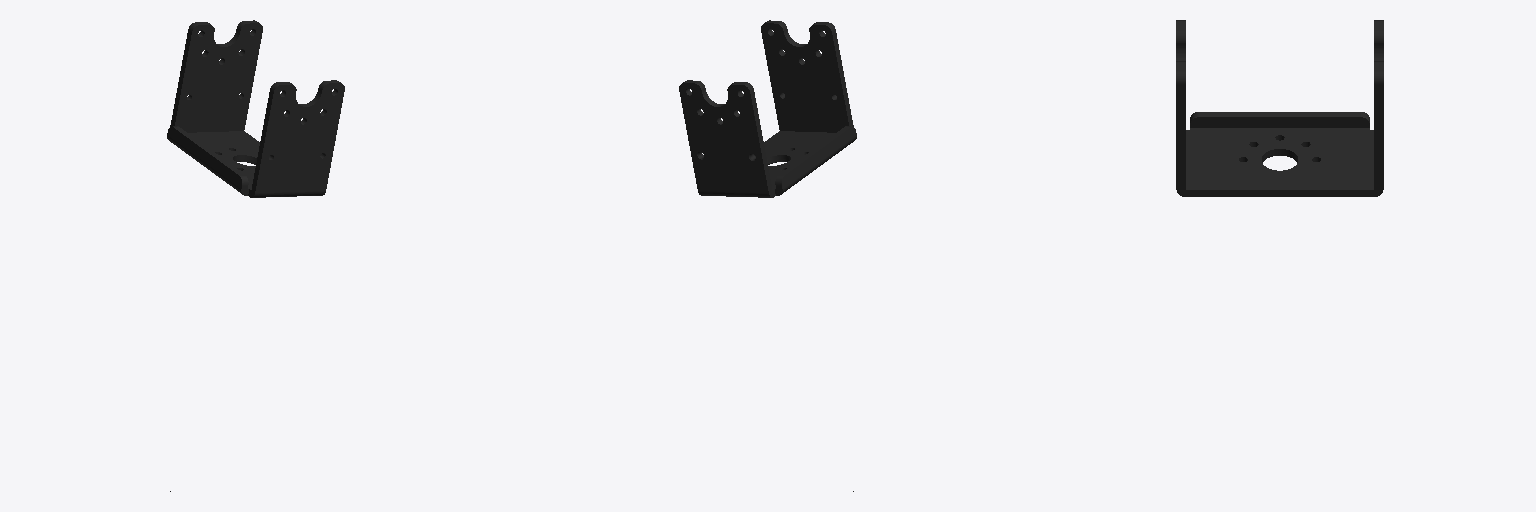
--- Facts derived from the render (not from the file) ---
3 views of the same robot in one strip: view 1: azimuth 30°, elevation 25°; view 2: azimuth 150°, elevation 25°; view 3: azimuth 270°, elevation 25° (orthographic).
Model Minibot with 30 links and 29 joints (20 revolute, 9 fixed), rooted at base_link, posed all joints at 0.
Links seen in each view (by area): view 1: L_HEAD_PAN; view 2: L_HEAD_PAN; view 3: L_HEAD_PAN.
Boxes of the visible links, bbox=[...] form: L_HEAD_PAN: bbox=[167, 20, 344, 197]; L_HEAD_PAN: bbox=[679, 20, 856, 197]; L_HEAD_PAN: bbox=[1176, 20, 1383, 196].
Bounding box of the posed robot: 40 × 45 × 122 m (x, y, z).
14 mesh visuals loaded from 12 distinct referenced files (6 binary STL, 2 Collada DAE); not drawn: 7 (reference not matched to a file when rendering).

URDF robot description (Minibot):
<?xml version="1.0" ?>
<!-- =================================================================================== -->
<!-- |    This document was autogenerated by xacro from minibot.urdf.xacro             | -->
<!-- |    EDITING THIS FILE BY HAND IS NOT RECOMMENDED                                 | -->
<!-- =================================================================================== -->
<robot name="Minibot" xmlns:xacro="http://www.ros.org/wiki/xacro">
  <!-- friction -->
  <link name="base_link"/>
  <joint name="base_link_to_body" type="fixed">
    <parent link="base_link"/>
    <child link="L_TORSO"/>
    <origin rpy="0 0.2 0" xyz="0 0 0.545"/>
  </joint>
  <link name="L_TORSO">
    <inertial>
      <origin rpy=" 1.5707963268 0 1.5707963268" xyz="-0.025019 0.000832 -0.054364"/>
      <mass value="1.423"/>
      <!--<inertia ixx="0.009125471"  ixy="0.000053223"  ixz="-0.000006850" iyy="0.005276569" iyz="0.000672794" izz="0.010426914" />-->
      <inertia ixx="0.05" ixy="0.0" ixz="0" iyy="0.05" iyz="0.0" izz="0.05"/>
      <!--<inertia ixx="0.001"  ixy="0.001"  ixz="0.001" iyy="0.001" iyz="0.001" izz="0.001" />-->
    </inertial>
    <visual>
      <origin rpy="1.5707963268 0 1.5707963268" xyz="0 0 0"/>
      <geometry>
        <mesh filename="package://minibot_description/meshes/torso_low.dae" scale="1 1 1"/>
      </geometry>
      <material name="Grey">
        <color rgba="0.20 0.20 0.20 1.0"/>
      </material>
    </visual>
    <!-- collision>
      <origin xyz="0 0 0" rpy="1.5707963268 0 1.5707963268"/>
      <geometry>
        <mesh filename="package://minibot_description/meshes/torso_coll.dae"  scale="1 1 1"/>
      </geometry>
    </collision> -->
  </link>
  <link name="L_HEAD_PAN">
    <inertial>
      <origin xyz="0.000002 -0.001022 0.008994"/>
      <mass value="0.012"/>
      <!--<inertia ixx="0.000001769"  ixy="0.0"  ixz="0.0" iyy="0.000004625" iyz="-0.000000082" izz="0.000005125" />-->
      <inertia ixx="0.0005" ixy="0.0" ixz="0" iyy="0.0005" iyz="0.0" izz="0.0005"/>
      <!--<inertia ixx="0.001"  ixy="0.001"  ixz="0.001" iyy="0.001" iyz="0.001" izz="0.001" />-->
    </inertial>
    <visual>
      <origin rpy="1.5707963268 0 0" xyz="0 0 0"/>
      <geometry>
        <mesh filename="package://minibot_description/meshes/head_lower_high.stl" scale="1 1 1"/>
      </geometry>
      <material name="Grey">
        <color rgba="0.20 0.20 0.20 1.0"/>
      </material>
    </visual>
    <!--<collision>
      <origin xyz="0 0 0" rpy="1.5707963268 0 0" />
      <geometry>
        <mesh filename="package://minibot_description/meshes/head_lower_coll.dae"  scale="1 1 1"/>
      </geometry>
    </collision>-->
  </link>
  <link name="L_HEAD_TILT">
    <inertial>
      <origin rpy="0 1.5707963268 0" xyz="-0.000223 -0.028433 0.0"/>
      <mass value="0.139"/>
      <inertia ixx="0.0005" ixy="0" ixz="0" iyy="0.0005" iyz="0" izz="0.0005"/>
      <!--<inertia ixx="0.001"  ixy="0.001"  ixz="0.001" iyy="0.001" iyz="0.001" izz="0.001" />-->
    </inertial>
    <visual>
      <origin rpy="3.14 1.5707963268 0" xyz="0 0 0"/>
      <geometry>
        <mesh filename="package://minibot_description/meshes/head_upper_high.stl" scale="1 1 1"/>
      </geometry>
      <material name="Grey">
        <color rgba="0.20 0.20 0.20 1.0"/>
      </material>
    </visual>
    <!--<collision>
      <origin xyz="0 0 0" rpy="3.14 1.5707963268 0" />
      <geometry>
        <mesh filename="package://minibot_description/meshes/head_upper_coll.dae"  scale="1 1 1"/>
      </geometry>
    </collision>-->
  </link>
  <link name="L_SHOULDER_PITCH_L">
    <inertial>
      <origin xyz="0.0 0.0 0.0087"/>
      <mass value="0.018"/>
      <inertia ixx="0.0005" ixy="0" ixz="0" iyy="0.0005" iyz="0" izz="0.0005"/>
      <!--<inertia ixx="0.001"  ixy="0.001"  ixz="0.001" iyy="0.001" iyz="0.001" izz="0.001" />-->
    </inertial>
    <visual>
      <origin rpy="0 1.5707963268 1.5707963268" xyz="0 0 0"/>
      <geometry>
        <!--box size="0.016 0.033 0.02165" /-->
        <mesh filename="package://minibot_description/meshes/shoulder_con_high.stl" scale="1 1 1"/>
      </geometry>
      <material name="Grey">
        <color rgba="0.20 0.20 0.20 1.0"/>
      </material>
    </visual>
    <!--<collision>
      <origin xyz="0 0 0" rpy="0 1.5707963268 1.5707963268"/>
      <geometry>
        <mesh filename="package://minibot_description/meshes/shoulder_con_coll.dae"  scale="1 1 1"/>
      </geometry>
    </collision>-->
  </link>
  <link name="L_SHOULDER_ROLL_L">
    <inertial>
      <origin xyz="-0.071053 0.000432 0.000046"/>
      <mass value="0.190"/>
      <!--<inertia ixx="0.0000409"  ixy="-0.000005512"  ixz="0.000003819" iyy="0.000667366" iyz="0.000000024" izz="0.000664711" />-->
      <inertia ixx="0.005" ixy="0" ixz="0" iyy="0.005" iyz="0" izz="0.005"/>
      <!--<inertia ixx="0.001"  ixy="0.001"  ixz="0.001" iyy="0.001" iyz="0.001" izz="0.001" />-->
    </inertial>
    <visual>
      <origin rpy="0 0 -1.5707963268" xyz="0 0 0"/>
      <geometry>
        <mesh filename="package://minibot_description/meshes/upper_arm_high.dae" scale="1 1 1"/>
      </geometry>
      <material name="Grey">
        <color rgba="0.20 0.20 0.20 1.0"/>
      </material>
    </visual>
    <!-- <collision>
      <origin xyz="0 0 0" rpy="0 0 -1.5707963268" />
      <geometry>
        <mesh filename="package://minibot_description/meshes/upper_arm_coll.dae"  scale="1 1 1"/>
      </geometry>
    </collision>-->
  </link>
  <link name="L_ELBOW_L">
    <inertial>
      <origin rpy="0 0 -3.141" xyz="-0.108 0.0 0.0"/>
      <mass value="0.097"/>
      <inertia ixx="0.0005" ixy="0" ixz="0" iyy="0.0005" iyz="0" izz="0.0005"/>
      <!--<inertia ixx="0.001"  ixy="0.001"  ixz="0.001" iyy="0.001" iyz="0.001" izz="0.001" />-->
    </inertial>
    <visual>
      <origin rpy="0 1.5707963268 -1.5707963268" xyz="0 0 0"/>
      <geometry>
        <mesh filename="package://minibot_description/meshes/lower_arm_high.stl" scale="1 1 1"/>
      </geometry>
      <material name="Grey">
        <color rgba="0.20 0.20 0.20 1.0"/>
      </material>
    </visual>
    <!--<collision>
      <origin xyz="0 0 0" rpy="0 1.5707963268 -1.5707963268" />
      <geometry>
        <mesh filename="package://minibot_description/meshes/lower_arm_coll.dae"  scale="1 1 1"/>
      </geometry>
    </collision>-->
  </link>
  <link name="L_SHOULDER_PITCH_R">
    <inertial>
      <origin xyz="0.0 0.0 0.0087"/>
      <mass value="0.018"/>
      <inertia ixx="0.0005" ixy="0" ixz="0" iyy="0.0005" iyz="0" izz="0.0005"/>
      <!--<inertia ixx="0.001"  ixy="0.001"  ixz="0.001" iyy="0.001" iyz="0.001" izz="0.001" />-->
    </inertial>
    <visual>
      <origin rpy="0 1.5707963268 1.5707963268" xyz="0 0 0"/>
      <geometry>
        <!--box size="0.016 0.033 0.02165" /-->
        <mesh filename="package://minibot_description/meshes/shoulder_con_high.stl" scale="1 1 1"/>
      </geometry>
      <material name="Grey">
        <color rgba="0.20 0.20 0.20 1.0"/>
      </material>
    </visual>
    <!--<collision>
      <origin xyz="0 0 0" rpy="0 1.5707963268 1.5707963268"/>
      <geometry>
        <mesh filename="package://minibot_description/meshes/shoulder_con_coll.dae"  scale="1 1 1"/>
      </geometry>
    </collision>-->
  </link>
  <link name="L_SHOULDER_ROLL_R">
    <inertial>
      <origin xyz="-0.071053 0.000432 0.000046"/>
      <mass value="0.190"/>
      <!--<inertia ixx="0.0000409"  ixy="-0.000005512"  ixz="0.000003819" iyy="0.000667366" iyz="0.000000024" izz="0.000664711" />-->
      <inertia ixx="0.0005" ixy="0" ixz="0" iyy="0.0005" iyz="0" izz="0.0005"/>
      <!--<inertia ixx="0.001"  ixy="0.001"  ixz="0.001" iyy="0.001" iyz="0.001" izz="0.001" />-->
    </inertial>
    <visual>
      <origin rpy="0 0 -1.5707963268" xyz="0 0 0"/>
      <geometry>
        <!--box size="0.06 0.032 0.035"/-->
        <mesh filename="package://minibot_description/meshes/upper_arm_high.dae" scale="1 1 1"/>
      </geometry>
      <material name="Grey">
        <color rgba="0.20 0.20 0.20 1.0"/>
      </material>
    </visual>
    <!--<collision>
      <origin xyz="0 0 0" rpy="0 0 -1.5707963268" />
      <geometry>
        <mesh filename="package://minibot_description/meshes/upper_arm_coll.dae"  scale="1 1 1"/>
      </geometry>
    </collision>-->
  </link>
  <link name="L_ELBOW_R">
    <inertial>
      <!--<origin xyz="0.108 0.0 0.0" rpy="0 1.5707963268 1.5707963268"/>-->
      <origin xyz="0.108 0.0 0.0"/>
      <mass value="0.097"/>
      <inertia ixx="0.0005" ixy="0" ixz="0" iyy="0.0005" iyz="0" izz="0.0005"/>
      <!--<inertia ixx="0.001"  ixy="0.001"  ixz="0.001" iyy="0.001" iyz="0.001" izz="0.001" />-->
    </inertial>
    <visual>
      <origin rpy="0 1.5707963268 1.5707963268" xyz="0 0 0"/>
      <geometry>
        <mesh filename="package://minibot_description/meshes/lower_arm_high.stl" scale="1 1 1"/>
      </geometry>
      <material name="Grey">
        <color rgba="0.20 0.20 0.20 1.0"/>
      </material>
    </visual>
    <!--<collision>
      <origin xyz="0 0 0" rpy="0 1.5707963268 1.5707963268" />
      <geometry>
        <mesh filename="package://minibot_description/meshes/lower_arm_coll.dae"  scale="1 1 1"/>
      </geometry>
    </collision>-->
  </link>
  <link name="L_HIP_YAW_L">
    <inertial>
      <origin rpy="1.5707963268 0 1.5707963268" xyz="0.0 0.0 0.011"/>
      <mass value="0.022"/>
      <inertia ixx="0.0005" ixy="0" ixz="0" iyy="0.0005" iyz="0" izz="0.0005"/>
      <!--<inertia ixx="0.001"  ixy="0.001"  ixz="0.001" iyy="0.001" iyz="0.001" izz="0.001" />-->
    </inertial>
    <visual>
      <origin rpy="1.5707963268 0 0" xyz="0 0 0"/>
      <geometry>
        <!--box size="0.045 0.08175 0.028652" /-->
        <mesh filename="package://minibot_description/meshes/yaw_con_high.stl" scale="1 1 1"/>
      </geometry>
      <material name="Grey">
        <color rgba="0.20 0.20 0.20 1.0"/>
      </material>
    </visual>
    <!--<collision>
      <origin xyz="0 0 0" rpy="1.5707963268 0 0" />
      <geometry>
        <mesh filename="package://minibot_description/meshes/yaw_con_coll.dae"  scale="1 1 1"/>
      </geometry>
    </collision>-->
  </link>
  <link name="L_HIP_ROLL_L">
    <inertial>
      <origin xyz="-0.00057 -0.013721 0.02013 "/>
      <mass value="0.325"/>
      <!--<inertia ixx="0.000315619"  ixy="0.000001631"  ixz="0.000002302" iyy="0.000280296" iyz="-0.000009041" izz="0.0001431" />-->
      <inertia ixx="0.005" ixy="0" ixz="0" iyy="0.005" iyz="0" izz="0.005"/>
      <!--<inertia ixx="0.001"  ixy="0.001"  ixz="0.001" iyy="0.001" iyz="0.001" izz="0.001" />-->
    </inertial>
    <visual>
      <origin rpy="0 3.14 0" xyz="0 0 -0.025"/>
      <geometry>
        <!--box size="0.001 0.001 0.001"/-->
        <mesh filename="package://minibot_description/meshes/hip_roll_low.dae" scale="1 1 1"/>
      </geometry>
      <material name="Grey">
        <color rgba="0.20 0.20 0.20 1.0"/>
      </material>
    </visual>
    <!--<collision>
      <origin xyz="0 0 -0.025" rpy="0 3.14 0" />
      <geometry>
        <mesh filename="package://minibot_description/meshes/hip_roll_coll.dae"  scale="1 1 1"/>
      </geometry>
    </collision>-->
  </link>
  <link name="L_HIP_PITCH_L">
    <inertial>
      <origin rpy="0 1.5707963268 1.5707963268" xyz="-0.12799 -0.000699 0.000454"/>
      <mass value="0.215"/>
      <!--<inertia ixx="0.000295153"  ixy="-0.000003736"  ixz="-0.000000065" iyy="0.000085463" iyz="-0.000003231" izz="0.000344449" />-->
      <inertia ixx="0.005" ixy="0" ixz="0" iyy="0.005" iyz="0" izz="0.005"/>
      <!--<inertia ixx="0.001"  ixy="0.001"  ixz="0.001" iyy="0.001" iyz="0.001" izz="0.001" />-->
    </inertial>
    <visual>
      <origin rpy="1.5707963268 1.5707963268 0" xyz="0 0 0"/>
      <geometry>
        <!--box size="0.093 0.035 0.045"-->
        <mesh filename="package://minibot_description/meshes/upper_leg_high.stl" scale="1 1 1"/>
      </geometry>
      <material name="Grey">
        <color rgba="0.20 0.20 0.20 1.0"/>
      </material>
    </visual>
    <!--<collision>
      <origin xyz="0 0 0" rpy="1.5707963268 1.5707963268 0" />
      <geometry>
        <mesh filename="package://minibot_description/meshes/upper_leg_coll.dae"  scale="1 1 1"/>
      </geometry>
    </collision>-->
  </link>
  <link name="L_KNEE_L">
    <inertial>
      <origin rpy="0 1.5707963268 1.5707963268" xyz="-0.072079 -0.00295 0.0"/>
      <mass value="0.055"/>
      <!--<inertia ixx="0.000094062"  ixy="0.0"  ixz="0.0" iyy="0.000043139" iyz="-0.000002344" izz="0.000125827" />-->
      <inertia ixx="0.0005" ixy="0" ixz="0" iyy="0.0005" iyz="0" izz="0.0005"/>
      <!--<inertia ixx="0.001"  ixy="0.001"  ixz="0.001" iyy="0.001" iyz="0.001" izz="0.001" />-->
    </inertial>
    <visual>
      <origin rpy="1.5707963268 1.5707963268 0" xyz="0 0 0"/>
      <geometry>
        <!--box size="0.093 0.035 0.045"/-->
        <mesh filename="package://minibot_description/meshes/lower_leg_high.stl" scale="1 1 1"/>
      </geometry>
      <material name="Grey">
        <color rgba="0.20 0.20 0.20 1.0"/>
      </material>
    </visual>
    <!--<collision>
      <origin xyz="0 0 0" rpy="1.5707963268 1.5707963268 0" />
      <geometry>
        <mesh filename="package://minibot_description/meshes/lower_leg_coll.dae"  scale="1 1 1"/>
      </geometry>
    </collision>-->
  </link>
  <link name="L_ANKLE_PITCH_L">
    <inertial>
      <origin rpy="1.5707963268 1.5707963268 0" xyz="0.014045 -0.020134 -0.000053"/>
      <mass value="0.325"/>
      <!--<inertia ixx="0.00041644"  ixy="-0.000001658"  ixz="0.000002316" iyy="0.0002803" iyz="0.0000095" izz="0.000144" />-->
      <inertia ixx="0.005" ixy="0" ixz="0" iyy="0.005" iyz="0" izz="0.005"/>
      <!--<inertia ixx="0.001"  ixy="0.001"  ixz="0.001" iyy="0.001" iyz="0.001" izz="0.001" />-->
    </inertial>
    <visual>
      <origin rpy="3.14 -1.5707963268 1.5707963268" xyz="0 0 0"/>
      <geometry>
        <!--box size="0.028652 0.08175 0.045"/-->
        <mesh filename="package://minibot_description/meshes/ankle_roll_low.dae" scale="1 1 1"/>
      </geometry>
      <material name="Grey">
        <color rgba="0.20 0.20 0.20 1.0"/>
      </material>
    </visual>
    <!--<collision>
      <origin xyz="0 0 0" rpy="3.14 -1.5707963268 1.5707963268" />
      <geometry>
        <mesh filename="package://minibot_description/meshes/ankle_roll_coll.dae"  scale="1 1 1"/>
      </geometry>
    </collision>-->
  </link>
  <link name="L_ANKLE_ROLL_L">
    <inertial>
      <origin rpy="0 0 1.5707963268" xyz="-0.0364 0.0003 0.002423"/>
      <mass value="0.086"/>
      <inertia ixx="0.0005" ixy="0" ixz="0" iyy="0.0005" iyz="0" izz="0.0005"/>
      <!--<inertia ixx="0.001"  ixy="0.001"  ixz="0.001" iyy="0.001" iyz="0.001" izz="0.001" />-->
    </inertial>
    <visual>
      <origin rpy="0 0 -1.5707963268" xyz="0 0 -0.025"/>
      <geometry>
        <!--box size="0.008 0.066 0.104"/-->
        <mesh filename="package://minibot_description/meshes/foot_high.stl" scale="1 1 1"/>
      </geometry>
      <material name="Grey">
        <color rgba="0.20 0.20 0.20 1.0"/>
      </material>
    </visual>
    <collision>
      <origin rpy="0 0 -1.5707963268" xyz="0 0 -0.025"/>
      <geometry>
        <mesh filename="package://minibot_description/meshes/foot_coll.dae" scale="1 1 1"/>
      </geometry>
    </collision>
  </link>
  <link name="L_HIP_YAW_R">
    <inertial>
      <origin rpy="1.5707963268 0 1.5707963268" xyz="0.0 0.0 0.011"/>
      <mass value="0.022"/>
      <inertia ixx="0.0005" ixy="0" ixz="0" iyy="0.0005" iyz="0" izz="0.0005"/>
      <!--<inertia ixx="0.001"  ixy="0.001"  ixz="0.001" iyy="0.001" iyz="0.001" izz="0.001" />-->
    </inertial>
    <visual>
      <origin rpy="1.5707963268 0 0" xyz="0 0 0"/>
      <geometry>
        <!--box size="0.045 0.08175 0.028652" /-->
        <mesh filename="package://minibot_description/meshes/yaw_con_high.stl" scale="1 1 1"/>
      </geometry>
      <material name="Grey">
        <color rgba="0.20 0.20 0.20 1.0"/>
      </material>
    </visual>
    <!--<collision>
      <origin xyz="0 0 0" rpy="1.5707963268 0 0" />
      <geometry>
        <mesh filename="package://minibot_description/meshes/yaw_con_coll.dae"  scale="1 1 1"/>
      </geometry>
    </collision>-->
  </link>
  <link name="L_HIP_ROLL_R">
    <inertial>
      <origin xyz="-0.00057 -0.013721 0.02013 "/>
      <mass value="0.325"/>
      <!--<inertia ixx="0.000315619"  ixy="0.000001631"  ixz="0.000002302" iyy="0.000280296" iyz="-0.000009041" izz="0.0001431" />-->
      <inertia ixx="0.005" ixy="0" ixz="0" iyy="0.005" iyz="0" izz="0.005"/>
      <!--<inertia ixx="0.001"  ixy="0.001"  ixz="0.001" iyy="0.001" iyz="0.001" izz="0.001" />-->
    </inertial>
    <visual>
      <origin rpy="0 3.14 0" xyz="0 0 -0.025"/>
      <geometry>
        <!--box size="0.001 0.001 0.001"/-->
        <mesh filename="package://minibot_description/meshes/hip_roll_low.dae" scale="1 1 1"/>
      </geometry>
      <material name="Grey">
        <color rgba="0.20 0.20 0.20 1.0"/>
      </material>
    </visual>
    <!--<collision>
      <origin xyz="0 0 -0.025" rpy="0 3.14 0" />
      <geometry>
        <mesh filename="package://minibot_description/meshes/hip_roll_coll.dae"  scale="1 1 1"/>
      </geometry>
    </collision>-->
  </link>
  <link name="L_HIP_PITCH_R">
    <inertial>
      <origin rpy="0 1.5707963268 1.5707963268" xyz="0.12799 -0.000699 0.000454"/>
      <mass value="0.215"/>
      <!--<inertia ixx="0.000295153"  ixy="-0.000003736"  ixz="-0.000000065" iyy="0.000085463" iyz="-0.000003231" izz="0.000344449" />-->
      <inertia ixx="0.005" ixy="0" ixz="0" iyy="0.005" iyz="0" izz="0.005"/>
      <!--<inertia ixx="0.001"  ixy="0.001"  ixz="0.001" iyy="0.001" iyz="0.001" izz="0.001" />-->
    </inertial>
    <visual>
      <origin rpy="1.5707963268 -1.5707963268 0" xyz="0 0 0"/>
      <geometry>
        <!--box size="0.093 0.035 0.045"/-->
        <mesh filename="package://minibot_description/meshes/upper_leg_high.stl" scale="1 1 1"/>
      </geometry>
      <material name="Grey">
        <color rgba="0.20 0.20 0.20 1.0"/>
      </material>
    </visual>
    <!--<collision>
      <origin xyz="0 0 0" rpy="1.5707963268 -1.5707963268 0" />
      <geometry>
        <mesh filename="package://minibot_description/meshes/upper_leg_coll.dae"  scale="1 1 1"/>
      </geometry>
    </collision>-->
  </link>
  <link name="L_KNEE_R">
    <inertial>
      <origin rpy="0 1.5707963268 1.5707963268" xyz="0.072079 -0.00295 0.0"/>
      <mass value="0.055"/>
      <!--<inertia ixx="0.000094062"  ixy="0.0"  ixz="0.0" iyy="0.000043139" iyz="-0.000002344" izz="0.000125827" />-->
      <inertia ixx="0.0005" ixy="0" ixz="0" iyy="0.0005" iyz="0" izz="0.0005"/>
      <!--<inertia ixx="0.001"  ixy="0.001"  ixz="0.001" iyy="0.001" iyz="0.001" izz="0.001" />-->
    </inertial>
    <visual>
      <origin rpy="1.5707963268 -1.5707963268 0" xyz="0 0 0"/>
      <geometry>
        <!--box size="0.093 0.035 0.045"/-->
        <mesh filename="package://minibot_description/meshes/lower_leg_high.stl" scale="1 1 1"/>
      </geometry>
      <material name="Grey">
        <color rgba="0.20 0.20 0.20 1.0"/>
      </material>
    </visual>
    <!--<collision>
      <origin xyz="0 0 0" rpy="1.5707963268 -1.5707963268 0" />
      <geometry>
        <mesh filename="package://minibot_description/meshes/lower_leg_coll.dae"  scale="1 1 1"/>
      </geometry>
    </collision>-->
  </link>
  <link name="L_ANKLE_PITCH_R">
    <inertial>
      <origin rpy="1.5707963268 1.5707963268 0" xyz="-0.014045 -0.020134 -0.000053"/>
      <mass value="0.325"/>
      <!--<inertia ixx="0.00041644"  ixy="-0.000001658"  ixz="0.000002316" iyy="0.0002803" iyz="0.0000095" izz="0.000144" />-->
      <inertia ixx="0.005" ixy="0" ixz="0" iyy="0.005" iyz="0" izz="0.005"/>
      <!--<inertia ixx="0.001"  ixy="0.001"  ixz="0.001" iyy="0.001" iyz="0.001" izz="0.001" />-->
    </inertial>
    <visual>
      <origin rpy="0 1.5707963268 1.5707963268" xyz="0 0 0"/>
      <geometry>
        <!--box size="0.028652 0.08175 0.045"/-->
        <mesh filename="package://minibot_description/meshes/ankle_roll_low.dae" scale="1 1 1"/>
      </geometry>
      <material name="Grey">
        <color rgba="0.20 0.20 0.20 1.0"/>
      </material>
    </visual>
    <!--<collision>
      <origin xyz="0 0 0" rpy="0 1.5707963268 1.5707963268" />
      <geometry>
        <mesh filename="package://minibot_description/meshes/ankle_roll_coll.dae"  scale="1 1 1"/>
      </geometry>
    </collision>-->
  </link>
  <link name="L_ANKLE_ROLL_R">
    <inertial>
      <origin rpy="0 0 1.5707963268" xyz="0.0364 0.0003 0.002423"/>
      <mass value="0.086"/>
      <inertia ixx="0.0005" ixy="0" ixz="0" iyy="0.0005" iyz="0" izz="0.0005"/>
      <!--<inertia ixx="0.001"  ixy="0.001"  ixz="0.001" iyy="0.001" iyz="0.001" izz="0.001" />-->
    </inertial>
    <visual>
      <origin rpy="0 0 1.5707963268" xyz="0 0 -0.025"/>
      <geometry>
        <!--box size="0.008 0.066 0.104"/-->
        <mesh filename="package://minibot_description/meshes/foot_high.stl" scale="1 1 1"/>
      </geometry>
      <material name="Grey">
        <color rgba="0.20 0.20 0.20 1.0"/>
      </material>
    </visual>
    <collision>
      <origin rpy="0 0 1.5707963268" xyz="0 0 -0.025"/>
      <geometry>
        <mesh filename="package://minibot_description/meshes/foot_coll.dae" scale="1 1 1"/>
      </geometry>
    </collision>
  </link>
  <link name="L_CAMERA"/>
  <link name="L_Hand_L"/>
  <link name="L_Hand_R"/>
  <link name="L_FOOT_BOTTOM_L"/>
  <link name="L_FOOT_BOTTOM_R"/>
  <link name="L_FOOT_FRONT_L"/>
  <link name="L_FOOT_FRONT_R"/>
  <link name="L_IMU">
  </link>
  <joint name="j_imu" type="fixed">
    <parent link="L_TORSO"/>
    <child link="L_IMU"/>
    <origin rpy="0 0 0" xyz="-0.03 0 -0.05"/>
    <axis xyz="0 0 1"/>
  </joint>
  <joint name="j_camboard" type="fixed">
    <parent link="L_HEAD_TILT"/>
    <child link="L_CAMERA"/>
    <origin rpy="-1.5707963 0 3.14159" xyz="0 -0.055 0 "/>
    <axis xyz="0 0 1"/>
  </joint>
  <joint name="HeadTilt" type="revolute">
    <parent link="L_HEAD_PAN"/>
    <child link="L_HEAD_TILT"/>
    <origin rpy="-1.5707963 0 1.5707963" xyz="0 0 0.02715"/>
    <axis xyz="0 0 1"/>
    <limit effort="10.0" lower="-1.5707963267910001" upper="0" velocity="5.6548668"/>
    <dynamics damping="0" friction="0.0"/>
  </joint>
  <joint name="HeadPan" type="revolute">
    <parent link="L_TORSO"/>
    <child link="L_HEAD_PAN"/>
    <origin rpy="0 0 1.5707963" xyz="0 0 0.050593"/>
    <axis xyz="0 0 1"/>
    <limit effort="10.0" lower="-2.1816615649875" upper="2.1816615649875" velocity="5.6548668"/>
    <dynamics damping="0" friction="0.0"/>
  </joint>
  <joint name="LShoulderPitch" type="revolute">
    <parent link="L_TORSO"/>
    <child link="L_SHOULDER_PITCH_L"/>
    <origin rpy="0 -1.5707963 -1.5707963" xyz="0 0.08134 0"/>
    <axis xyz="0 0 1"/>
    <limit effort="24.0" lower="-3.1415926535820002" upper="3.1415926535820002" velocity="6.597344565"/>
    <dynamics damping="0" friction="0.0"/>
  </joint>
  <joint name="LShoulderRoll" type="revolute">
    <parent link="L_SHOULDER_PITCH_L"/>
    <child link="L_SHOULDER_ROLL_L"/>
    <origin rpy="-1.5707963 0.7853981633955001 0" xyz="0 0 0.029194"/>
    <axis xyz="0 0 -1"/>
    <limit effort="10.0" lower="-2.3561944901865" upper="0.7853981633955001" velocity="5.648668"/>
    <dynamics damping="0" friction="0.0"/>
  </joint>
  <joint name="LElbow" type="revolute">
    <parent link="L_SHOULDER_ROLL_L"/>
    <child link="L_ELBOW_L"/>
    <origin rpy="1.5707963 1.5707963 0" xyz="-0.14 0 0"/>
    <axis xyz="0 0 1"/>
    <limit effort="10.0" lower="-1.1344640137935" upper="1.5707963267910001" velocity="5.6548668"/>
    <dynamics damping="0" friction="0.0"/>
  </joint>
  <joint name="j_LHand" type="fixed">
    <parent link="L_ELBOW_L"/>
    <child link="L_Hand_L"/>
    <origin rpy="0 0 3.14159" xyz="-0.1573 0 0"/>
  </joint>
  <joint name="RShoulderPitch" type="revolute">
    <parent link="L_TORSO"/>
    <child link="L_SHOULDER_PITCH_R"/>
    <origin rpy="0 1.5707963 -1.5707963" xyz="0 -0.08134 0"/>
    <axis xyz="0 0 1"/>
    <limit effort="24.0" lower="-3.1415926535820002" upper="3.1415926535820002" velocity="6.597344565"/>
    <dynamics damping="0" friction="0.0"/>
  </joint>
  <joint name="RShoulderRoll" type="revolute">
    <parent link="L_SHOULDER_PITCH_R"/>
    <child link="L_SHOULDER_ROLL_R"/>
    <origin rpy="-1.5707963 2.356194463 0" xyz="0 0 0.029194"/>
    <axis xyz="0 0 -1"/>
    <limit effort="10.0" lower="-0.7853981633955001" upper="2.3561944901865" velocity="5.648668"/>
    <dynamics damping="0" friction="0.0"/>
  </joint>
  <joint name="RElbow" type="revolute">
    <parent link="L_SHOULDER_ROLL_R"/>
    <child link="L_ELBOW_R"/>
    <origin rpy="-1.5707963 -1.5707963 0" xyz="-0.14 0 0"/>
    <axis xyz="0 0 1"/>
    <limit effort="10.0" lower="-1.635" upper="1.5707963267910001" velocity="5.6548668"/>
    <dynamics damping="0" friction="0.0"/>
  </joint>
  <joint name="j_RHand" type="fixed">
    <parent link="L_ELBOW_R"/>
    <child link="L_Hand_R"/>
    <origin xyz="0.1573 0 0"/>
  </joint>
  <joint name="LHipYaw" type="revolute">
    <parent link="L_TORSO"/>
    <child link="L_HIP_YAW_L"/>
    <origin rpy="0 3.14159 3.14159" xyz="-0.022 0.057775 -0.160593"/>
    <axis xyz="0 0 1"/>
    <limit effort="10.0" lower="-0.9250245035547" upper="0.9250245035547" velocity="5.6548668"/>
    <dynamics damping="0" friction="0.0"/>
  </joint>
  <joint name="LHipRoll" type="revolute">
    <parent link="L_HIP_YAW_L"/>
    <child link="L_HIP_ROLL_L"/>
    <origin rpy="-1.5707963 0 1.5707963" xyz="-0.025 0 0.038444"/>
    <axis xyz="0 0 -1"/>
    <limit effort="24.0" lower="-1.0122909661542001" upper="0.7853981633955001" velocity="6.597344565"/>
    <dynamics damping="0" friction="0.0"/>
  </joint>
  <joint name="LHipPitch" type="revolute">
    <parent link="L_HIP_ROLL_L"/>
    <child link="L_HIP_PITCH_L"/>
    <origin rpy="1.5707963 0 1.5707963" xyz="0 0 -0.025"/>
    <axis xyz="0 0 1"/>
    <limit effort="33.6" lower="-0.48869219055720003" upper="1.919862177189" velocity="4.712388975"/>
    <dynamics damping="0" friction="0.0"/>
  </joint>
  <joint name="LKnee" type="revolute">
    <parent link="L_HIP_PITCH_L"/>
    <child link="L_KNEE_L"/>
    <origin rpy="0 0 0" xyz="-0.150 0 0"/>
    <axis xyz="0 0 1"/>
    <limit effort="33.6" lower="-2.268928027587" upper="0" velocity="4.712388975"/>
    <dynamics damping="0" friction="0.0"/>
  </joint>
  <joint name="LAnklePitch" type="revolute">
    <parent link="L_KNEE_L"/>
    <child link="L_ANKLE_PITCH_L"/>
    <origin rpy="3.14159 0 0" xyz="-0.150 0 0"/>
    <axis xyz="0 0 1"/>
    <limit effort="33.6" lower="-1.6406094968706" upper="1.2391837689129" velocity="4.712388975"/>
    <dynamics damping="0" friction="0.0"/>
  </joint>
  <joint name="LAnkleRoll" type="revolute">
    <parent link="L_ANKLE_PITCH_L"/>
    <child link="L_ANKLE_ROLL_L"/>
    <origin rpy="-1.5707963 0 0" xyz="0 0.0275 0"/>
    <axis xyz="0 0 1"/>
    <limit effort="24.0" lower="-1.4660765716716" upper="1.4660765716716" velocity="6.597344565"/>
    <dynamics damping="0" friction="0.0"/>
  </joint>
  <joint name="j_LFootBottom" type="fixed">
    <parent link="L_ANKLE_ROLL_L"/>
    <child link="L_FOOT_BOTTOM_L"/>
    <origin rpy="3.14159 -1.5707963 0" xyz="-0.040444 0 0"/>
  </joint>
  <joint name="j_LFootFront" type="fixed">
    <parent link="L_FOOT_BOTTOM_L"/>
    <child link="L_FOOT_FRONT_L"/>
    <origin xyz="0.0849 0 0 "/>
  </joint>
  <joint name="RHipYaw" type="revolute">
    <parent link="L_TORSO"/>
    <child link="L_HIP_YAW_R"/>
    <origin rpy="0 3.14159 3.14159" xyz="-0.022 -0.057775 -0.160593"/>
    <axis xyz="0 0 1"/>
    <limit effort="10.0" lower="-0.9250245035547" upper="0.9250245035547" velocity="5.6548668"/>
    <dynamics damping="0" friction="0.0"/>
  </joint>
  <joint name="RHipRoll" type="revolute">
    <parent link="L_HIP_YAW_R"/>
    <child link="L_HIP_ROLL_R"/>
    <origin rpy="-1.5707963 0 1.5707963" xyz="-0.025 0 0.038444"/>
    <axis xyz="0 0 1"/>
    <limit effort="24.0" lower="-1.0122909661542001" upper="0.7853981633955001" velocity="6.597344565"/>
    <dynamics damping="0" friction="0.0"/>
  </joint>
  <joint name="RHipPitch" type="revolute">
    <parent link="L_HIP_ROLL_R"/>
    <child link="L_HIP_PITCH_R"/>
    <origin rpy="1.5707963 0 -1.5707963" xyz="0 0 -0.025"/>
    <axis xyz="0 0 1"/>
    <limit effort="33.6" lower="-1.919862177189" upper="0.48869219055720003" velocity="4.712388975"/>
    <dynamics damping="0" friction="0.0"/>
  </joint>
  <joint name="RKnee" type="revolute">
    <parent link="L_HIP_PITCH_R"/>
    <child link="L_KNEE_R"/>
    <origin rpy="0 0 0" xyz="0.150 0 0"/>
    <axis xyz="0 0 1"/>
    <limit effort="33.6" lower="0" upper="2.268928027587" velocity="4.712388975"/>
    <dynamics damping="0" friction="0.0"/>
  </joint>
  <joint name="RAnklePitch" type="revolute">
    <parent link="L_KNEE_R"/>
    <child link="L_ANKLE_PITCH_R"/>
    <origin rpy="3.14159 0 0" xyz="0.150 0 0"/>
    <axis xyz="0 0 1"/>
    <limit effort="33.6" lower="-1.2391837689129" upper="1.6406094968706" velocity="4.712388975"/>
    <dynamics damping="0" friction="0.0"/>
  </joint>
  <joint name="RAnkleRoll" type="revolute">
    <parent link="L_ANKLE_PITCH_R"/>
    <child link="L_ANKLE_ROLL_R"/>
    <origin rpy="-1.5707963 0 0" xyz="0 0.0275 0"/>
    <axis xyz="0 0 1"/>
    <limit effort="24.0" lower="-1.4660765716716" upper="1.4660765716716" velocity="6.597344565"/>
    <dynamics damping="0" friction="0.0"/>
  </joint>
  <joint name="j_RFootBottom" type="fixed">
    <parent link="L_ANKLE_ROLL_R"/>
    <child link="L_FOOT_BOTTOM_R"/>
    <origin rpy="0 -1.5707963 0" xyz="0.040444 0 0"/>
  </joint>
  <joint name="j_RFootFront" type="fixed">
    <parent link="L_FOOT_BOTTOM_R"/>
    <child link="L_FOOT_FRONT_R"/>
    <origin xyz="0.0849 0 0 "/>
  </joint>
  <transmission name="HeadPanTransmission">
    <type>transmission_interface/SimpleTransmission</type>
    <joint name="HeadPan">
      <hardwareInterface>EffortJointInterface</hardwareInterface>
    </joint>
    <actuator name="HeadPanMotor">
      <hardwareInterface>EffortJointInterface</hardwareInterface>
      <mechanicalReduction>1</mechanicalReduction>
    </actuator>
  </transmission>
  <transmission name="HeadTiltTransmission">
    <type>transmission_interface/SimpleTransmission</type>
    <joint name="HeadTilt">
      <hardwareInterface>EffortJointInterface</hardwareInterface>
    </joint>
    <actuator name="HeadTiltMotor">
      <hardwareInterface>EffortJointInterface</hardwareInterface>
      <mechanicalReduction>1</mechanicalReduction>
    </actuator>
  </transmission>
  <transmission name="LShoulderPitchTransmission">
    <type>transmission_interface/SimpleTransmission</type>
    <joint name="LShoulderPitch">
      <hardwareInterface>EffortJointInterface</hardwareInterface>
    </joint>
    <actuator name="LShoulderPitchMotor">
      <hardwareInterface>EffortJointInterface</hardwareInterface>
      <mechanicalReduction>1</mechanicalReduction>
    </actuator>
  </transmission>
  <transmission name="LShoulderRollTransmission">
    <type>transmission_interface/SimpleTransmission</type>
    <joint name="LShoulderRoll">
      <hardwareInterface>EffortJointInterface</hardwareInterface>
    </joint>
    <actuator name="LShoulderRollTransmission">
      <hardwareInterface>EffortJointInterface</hardwareInterface>
      <mechanicalReduction>1</mechanicalReduction>
    </actuator>
  </transmission>
  <transmission name="LElbowTransmission">
    <type>transmission_interface/SimpleTransmission</type>
    <joint name="LElbow">
      <hardwareInterface>EffortJointInterface</hardwareInterface>
    </joint>
    <actuator name="LElbowMotor">
      <hardwareInterface>EffortJointInterface</hardwareInterface>
      <mechanicalReduction>1</mechanicalReduction>
    </actuator>
  </transmission>
  <transmission name="RShoulderPitchTransmission">
    <type>transmission_interface/SimpleTransmission</type>
    <joint name="RShoulderPitch">
      <hardwareInterface>EffortJointInterface</hardwareInterface>
    </joint>
    <actuator name="RShoulderPitchMotor">
      <hardwareInterface>EffortJointInterface</hardwareInterface>
      <mechanicalReduction>1</mechanicalReduction>
    </actuator>
  </transmission>
  <transmission name="RShoulderRollTransmission">
    <type>transmission_interface/SimpleTransmission</type>
    <joint name="RShoulderRoll">
      <hardwareInterface>EffortJointInterface</hardwareInterface>
    </joint>
    <actuator name="RShoulderRollMotor">
      <hardwareInterface>EffortJointInterface</hardwareInterface>
      <mechanicalReduction>1</mechanicalReduction>
    </actuator>
  </transmission>
  <transmission name="RElbowTransmission">
    <type>transmission_interface/SimpleTransmission</type>
    <joint name="RElbow">
      <hardwareInterface>EffortJointInterface</hardwareInterface>
    </joint>
    <actuator name="RElbowMotor">
      <hardwareInterface>EffortJointInterface</hardwareInterface>
      <mechanicalReduction>1</mechanicalReduction>
    </actuator>
  </transmission>
  <transmission name="LHipYawTransmission">
    <type>transmission_interface/SimpleTransmission</type>
    <joint name="LHipYaw">
      <hardwareInterface>EffortJointInterface</hardwareInterface>
    </joint>
    <actuator name="LHipYawMotor">
      <hardwareInterface>EffortJointInterface</hardwareInterface>
      <mechanicalReduction>1</mechanicalReduction>
    </actuator>
  </transmission>
  <transmission name="LHipRollTransmission">
    <type>transmission_interface/SimpleTransmission</type>
    <joint name="LHipRoll">
      <hardwareInterface>EffortJointInterface</hardwareInterface>
    </joint>
    <actuator name="LHipRollMotor">
      <hardwareInterface>EffortJointInterface</hardwareInterface>
      <mechanicalReduction>1</mechanicalReduction>
    </actuator>
  </transmission>
  <transmission name="LHipPitchTransmission">
    <type>transmission_interface/SimpleTransmission</type>
    <joint name="LHipPitch">
      <hardwareInterface>EffortJointInterface</hardwareInterface>
    </joint>
    <actuator name="LHipPitchMotor">
      <hardwareInterface>EffortJointInterface</hardwareInterface>
      <mechanicalReduction>1</mechanicalReduction>
    </actuator>
  </transmission>
  <transmission name="LKneeTransmission">
    <type>transmission_interface/SimpleTransmission</type>
    <joint name="LKnee">
      <hardwareInterface>EffortJointInterface</hardwareInterface>
    </joint>
    <actuator name="LKneeMotor">
      <hardwareInterface>EffortJointInterface</hardwareInterface>
      <mechanicalReduction>1</mechanicalReduction>
    </actuator>
  </transmission>
  <transmission name="LAnklePitchTransmission">
    <type>transmission_interface/SimpleTransmission</type>
    <joint name="LAnklePitch">
      <hardwareInterface>EffortJointInterface</hardwareInterface>
    </joint>
    <actuator name="LAnklePitchMotor">
      <hardwareInterface>EffortJointInterface</hardwareInterface>
      <mechanicalReduction>1</mechanicalReduction>
    </actuator>
  </transmission>
  <transmission name="LAnkleRollTransmission">
    <type>transmission_interface/SimpleTransmission</type>
    <joint name="LAnkleRoll">
      <hardwareInterface>EffortJointInterface</hardwareInterface>
    </joint>
    <actuator name="LAnkleRollMotor">
      <hardwareInterface>EffortJointInterface</hardwareInterface>
      <mechanicalReduction>1</mechanicalReduction>
    </actuator>
  </transmission>
  <transmission name="RHipYawTransmission">
    <type>transmission_interface/SimpleTransmission</type>
    <joint name="RHipYaw">
      <hardwareInterface>EffortJointInterface</hardwareInterface>
    </joint>
    <actuator name="RHipYawMotor">
      <hardwareInterface>EffortJointInterface</hardwareInterface>
      <mechanicalReduction>1</mechanicalReduction>
    </actuator>
  </transmission>
  <transmission name="RHipRollTransmission">
    <type>transmission_interface/SimpleTransmission</type>
    <joint name="RHipRoll">
      <hardwareInterface>EffortJointInterface</hardwareInterface>
    </joint>
    <actuator name="RHipRollMotor">
      <hardwareInterface>EffortJointInterface</hardwareInterface>
      <mechanicalReduction>1</mechanicalReduction>
    </actuator>
  </transmission>
  <transmission name="RHipPitchTransmission">
    <type>transmission_interface/SimpleTransmission</type>
    <joint name="RHipPitch">
      <hardwareInterface>EffortJointInterface</hardwareInterface>
    </joint>
    <actuator name="RHipPitchMotor">
      <hardwareInterface>EffortJointInterface</hardwareInterface>
      <mechanicalReduction>1</mechanicalReduction>
    </actuator>
  </transmission>
  <transmission name="RKneeTransmission">
    <type>transmission_interface/SimpleTransmission</type>
    <joint name="RKnee">
      <hardwareInterface>EffortJointInterface</hardwareInterface>
    </joint>
    <actuator name="RKneeMotor">
      <hardwareInterface>EffortJointInterface</hardwareInterface>
      <mechanicalReduction>1</mechanicalReduction>
    </actuator>
  </transmission>
  <transmission name="RAnklePitchTransmission">
    <type>transmission_interface/SimpleTransmission</type>
    <joint name="RAnklePitch">
      <hardwareInterface>EffortJointInterface</hardwareInterface>
    </joint>
    <actuator name="RAnklePitchMotor">
      <hardwareInterface>EffortJointInterface</hardwareInterface>
      <mechanicalReduction>1</mechanicalReduction>
    </actuator>
  </transmission>
  <transmission name="RAnkleRollTransmission">
    <type>transmission_interface/SimpleTransmission</type>
    <joint name="RAnkleRoll">
      <hardwareInterface>EffortJointInterface</hardwareInterface>
    </joint>
    <actuator name="RAnkleRollMotor">
      <hardwareInterface>EffortJointInterface</hardwareInterface>
      <mechanicalReduction>1</mechanicalReduction>
    </actuator>
  </transmission>
  <gazebo reference="L_TORSO">
    <material>Gazebo/Grey</material>
  </gazebo>
  <gazebo reference="L_HEAD_PAN">
    <material>Gazebo/Grey</material>
  </gazebo>
  <gazebo reference="L_HEAD_TILT">
    <material>Gazebo/Grey</material>
  </gazebo>
  <gazebo reference="L_SHOULDER_L">
    <material>Gazebo/Grey</material>
  </gazebo>
  <gazebo reference="L_SHOULDER_PITCH_L">
    <material>Gazebo/Grey</material>
  </gazebo>
  <gazebo reference="L_SHOULDER_ROLL_L">
    <material>Gazebo/Grey</material>
  </gazebo>
  <gazebo reference="L_ELBOW_L">
    <material>Gazebo/Grey</material>
  </gazebo>
  <gazebo reference="L_SHOULDER_R">
    <material>Gazebo/Grey</material>
  </gazebo>
  <gazebo reference="L_SHOULDER_PITCH_R">
    <material>Gazebo/Grey</material>
  </gazebo>
  <gazebo reference="L_SHOULDER_ROLL_R">
    <material>Gazebo/Grey</material>
  </gazebo>
  <gazebo reference="L_ELBOW_R">
    <material>Gazebo/Grey</material>
  </gazebo>
  <gazebo reference="L_HIP_YAW_L">
    <material>Gazebo/Grey</material>
  </gazebo>
  <gazebo reference="L_HIP_ROLL_L">
    <material>Gazebo/Grey</material>
  </gazebo>
  <gazebo reference="L_HIP_PITCH_L">
    <material>Gazebo/Grey</material>
  </gazebo>
  <gazebo reference="L_KNEE_L">
    <material>Gazebo/Grey</material>
  </gazebo>
  <gazebo reference="L_ANKLE_PITCH_L">
    <material>Gazebo/Grey</material>
  </gazebo>
  <gazebo reference="L_ANKLE_ROLL_L">
    <material>Gazebo/Grey</material>
    <kp>1000000.0</kp>
    <kd>100.0</kd>
    <mu1>1.0</mu1>
    <mu2>1.0</mu2>
    <fdir1>1 0 0</fdir1>
    <maxVel>1.0</maxVel>
    <minDepth>0.00</minDepth>
  </gazebo>
  <gazebo reference="L_HIP_YAW_R">
    <material>Gazebo/Grey</material>
  </gazebo>
  <gazebo reference="L_HIP_ROLL_R">
    <material>Gazebo/Grey</material>
  </gazebo>
  <gazebo reference="L_HIP_PITCH_R">
    <material>Gazebo/Grey</material>
  </gazebo>
  <gazebo reference="L_KNEE_R">
    <material>Gazebo/Grey</material>
  </gazebo>
  <gazebo reference="L_ANKLE_PITCH_R">
    <material>Gazebo/Grey</material>
  </gazebo>
  <gazebo reference="L_ANKLE_ROLL_R">
    <material>Gazebo/Grey</material>
    <kp>1000000.0</kp>
    <kd>100.0</kd>
    <mu1>1.0</mu1>
    <mu2>1.0</mu2>
    <fdir1>1 0 0</fdir1>
    <maxVel>1.0</maxVel>
    <minDepth>0.00</minDepth>
  </gazebo>
  <gazebo reference="L_CAMERA">
    <material>Gazebo/Grey</material>
    <self_collide>0</self_collide>
  </gazebo>
  <gazebo>
    <plugin filename="libgazebo_ros_control.so" name="gazebo_ros_control">
      <robotNamespace>minibot</robotNamespace>
    </plugin>
  </gazebo>
  <!--<gazebo reference="L_CAMERA">
        <sensor name='camera' type='camera'>
          <pose>-0.050000 -0.010000 0.000000 -1.5708 0.000000 -3.141592</pose>
          <camera name='__default__'>
            <horizontal_fov>1.012300</horizontal_fov>
            <image>
              <width>800</width>
              <height>600</height>
            </image>
            <clip>
              <near>0.001000</near>
              <far>100.000000</far>
            </clip>
          </camera>
          <always_on>1</always_on>
          <update_rate>30.000000</update_rate>
          <visualize>1</visualize>
          <plugin name="camera_controller" filename="libgazebo_ros_camera.so">
            <alwaysOn>true</alwaysOn>
            <updateRate>30</updateRate>
            <cameraName>camera</cameraName>
            <imageTopicName>image_raw</imageTopicName>
            <cameraInfoTopicName>camera_info</cameraInfoTopicName>
            <frameName>L_CAMERA</frameName>
            <hackBaseline>0.07</hackBaseline>
            <distortionK1>0.0</distortionK1>
            <distortionK2>0.0</distortionK2>
            <distortionK3>0.0</distortionK3>
            <distortionT1>0.0</distortionT1>
            <distortionT2>0.0</distortionT2>
          </plugin>        
      </sensor>
  </gazebo> -->
  <gazebo>
    <plugin filename="libhector_gazebo_ros_imu.so" name="gazebo_ros_imu">
      <robotNamespace>minibot</robotNamespace>
      <bodyName>L_IMU</bodyName>
      <updateRate>50</updateRate>
      <serviceName>imu_service</serviceName>
      <topicName>imu</topicName>
      <gaussianNoise>0</gaussianNoise>
      <xyzOffset>0 0 0</xyzOffset>
      <rpyOffset>0 0 -0.703220730592</rpyOffset>
    </plugin>
  </gazebo>
  <!-- Groundtruth plugin: completely broken 
  <gazebo>
    <plugin name="robot_groundtruth_sim" filename="libgazebo_ros_p3d.so">
      <robotNamespace>minibot</robotNamespace>
      <alwaysOn>true</alwaysOn>
      <updateRate>100.0</updateRate>
      <bodyName>base_link</bodyName>
      <topicName>odom</topicName>
      <gaussianNoise>0.0</gaussianNoise>
      <frameName>map</frameName> 
      <xyzOffsets>0 0 0</xyzOffsets>
      <rpyOffsets>0 0 0</rpyOffsets>
    </plugin> 
  </gazebo>
  -->
  <!-- fake controller that allows us to move the robot and to get its oposition -->
  <!-- rostopic pub /minibot/cmd_vel geometry_msgs/Twist "{ linear: [ 0.1, 0, 0], angular: [0.2, 0, 0.1] }" -->
  <!--<gazebo>
    <plugin name="object_controller" filename="libgazebo_ros_planar_move.so">
      <robotNamespace>minibot</robotNamespace>
      
      <commandTopic>cmd_vel</commandTopic>
      <odometryTopic>odom</odometryTopic>
      <odometryFrame>odom</odometryFrame>
      <odometryRate>100.0</odometryRate>
      <robotBaseFrame>base_link</robotBaseFrame>
    </plugin>
  </gazebo> -->
</robot>
